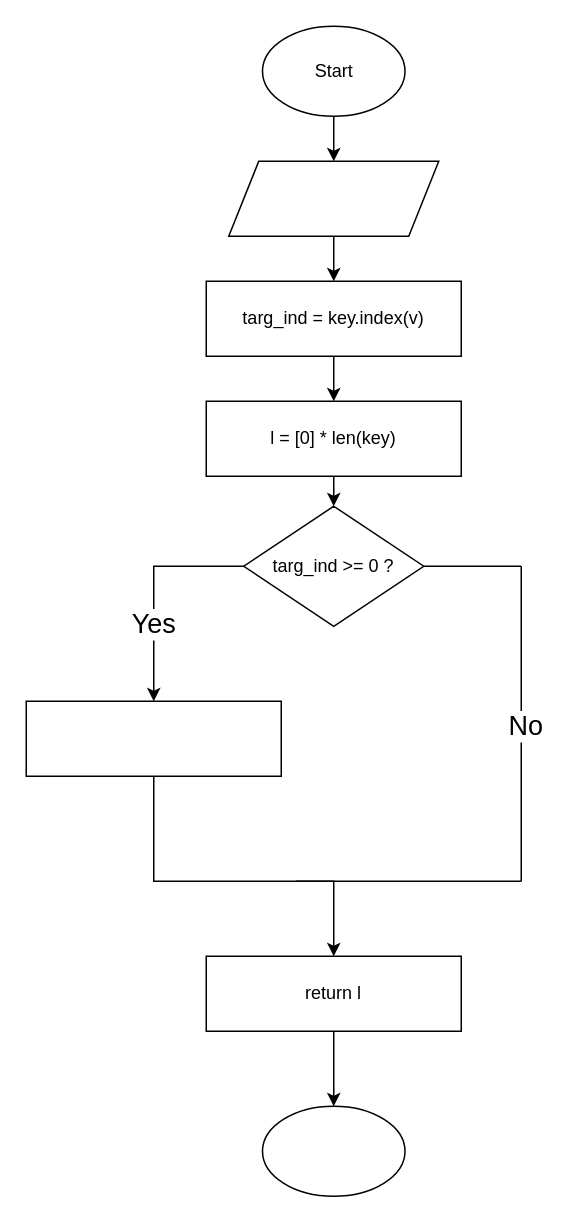
The diagram is 569 pixels wide and 1223 high, and some of its shapes have lost their labels. Here are the shapes that lost their labels. From the top down, the centre of each, then its label:
At pixel 333 198: "Input: v, key".
At pixel 153 738: "l[target_ind] = 1".
At pixel 333 1150: "End".
